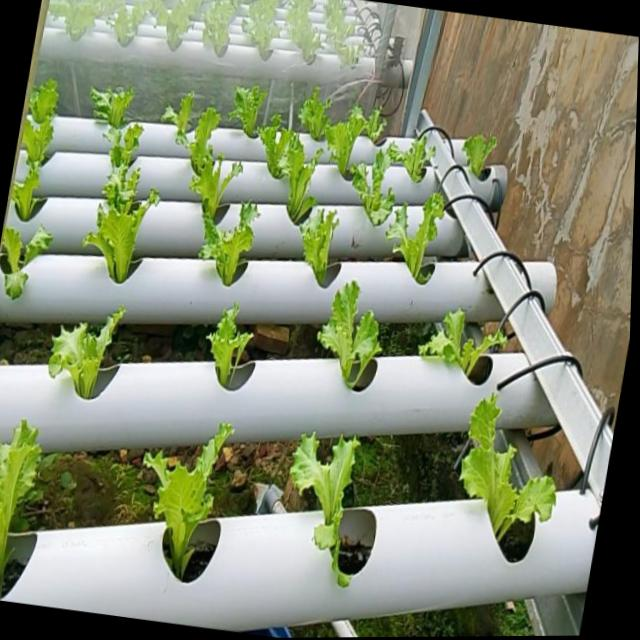Baby: (465, 390, 563, 537), (147, 420, 236, 577), (294, 432, 364, 584), (0, 419, 44, 599), (321, 275, 386, 383), (52, 305, 127, 397), (424, 301, 517, 369), (180, 127, 246, 222), (390, 187, 449, 280), (270, 128, 327, 224), (213, 78, 273, 162), (91, 202, 153, 282), (329, 102, 390, 174), (353, 143, 402, 224), (3, 225, 56, 299), (215, 201, 260, 284), (101, 140, 143, 227), (211, 300, 255, 383), (303, 206, 343, 284), (24, 88, 60, 167), (392, 127, 440, 180), (162, 91, 205, 148), (301, 85, 336, 140), (93, 88, 136, 129), (466, 128, 502, 170)
